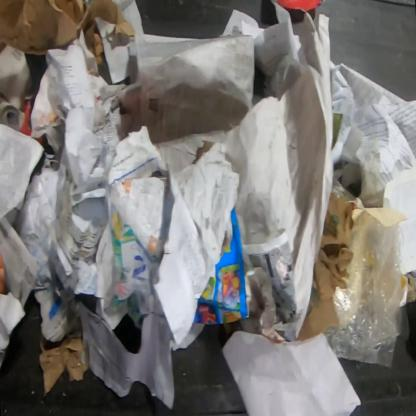cardboard: (298, 192, 360, 342), (37, 328, 89, 397), (406, 272, 415, 305)
metal: (0, 99, 25, 135)
rigid_plastic: (274, 1, 327, 12)
soft_plastic: (324, 222, 406, 368)
